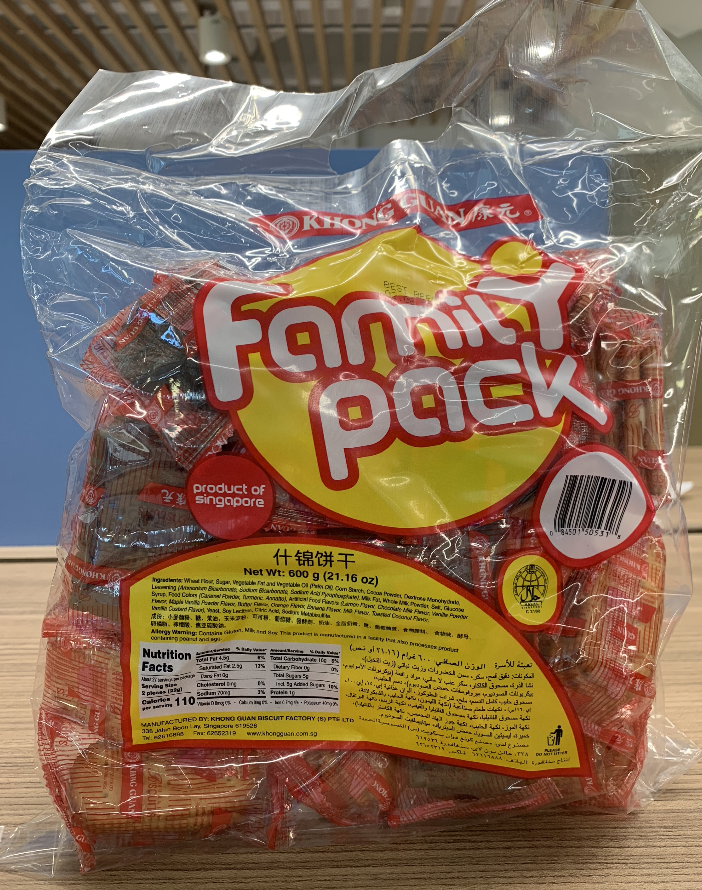cookies_550g: (104, 262, 638, 766)
